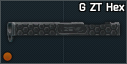Glock ZEV Tech HEX Gen3 pistol slide: (0, 0, 127, 64)
